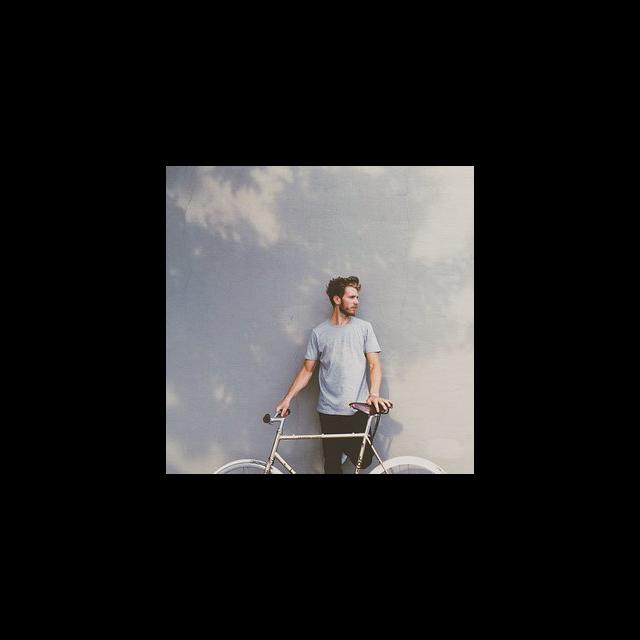male: (295, 277, 404, 357)
